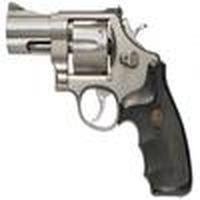gun: (2, 2, 200, 199)
